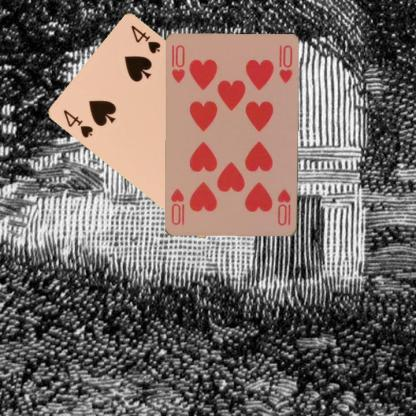10h: (275, 187, 292, 227), (170, 43, 186, 84)
4s: (61, 107, 95, 140)
